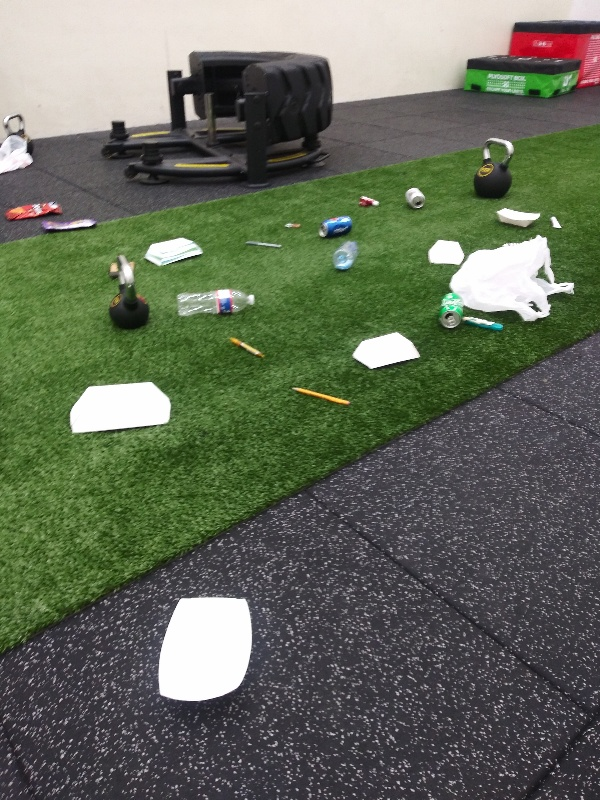bag: (4, 196, 64, 224), (38, 215, 100, 231)
bottle: (173, 284, 259, 321), (331, 236, 367, 272)
can: (434, 287, 468, 330), (315, 212, 357, 241), (396, 182, 429, 211)
plate: (153, 592, 255, 705), (60, 377, 179, 435), (348, 330, 423, 370), (141, 235, 210, 269), (492, 201, 542, 231), (424, 235, 469, 268)
